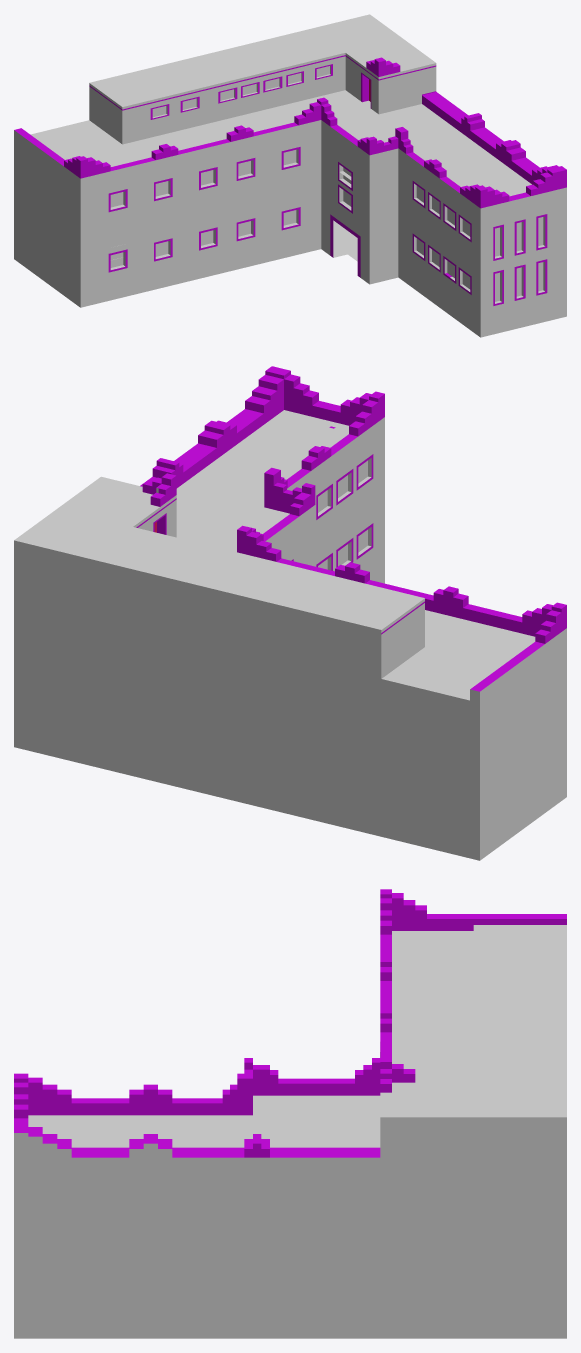
The picture shows the model from 3 angles, top to bottom: view 1: azimuth 30°, elevation 25°; view 2: azimuth 150°, elevation 25°; view 3: azimuth 270°, elevation 25°; orthographic projection. The views are drawn at different scales.
Visible parts, largest first — view 1: Cube; view 2: Cube; view 3: Cube.
Part boxes in pixels (x1,y1,x2,y2): Cube: (14,14,566,337); Cube: (14,366,566,860); Cube: (14,889,566,1338).
Size of the model in its own units: 618 by 287 by 592.
